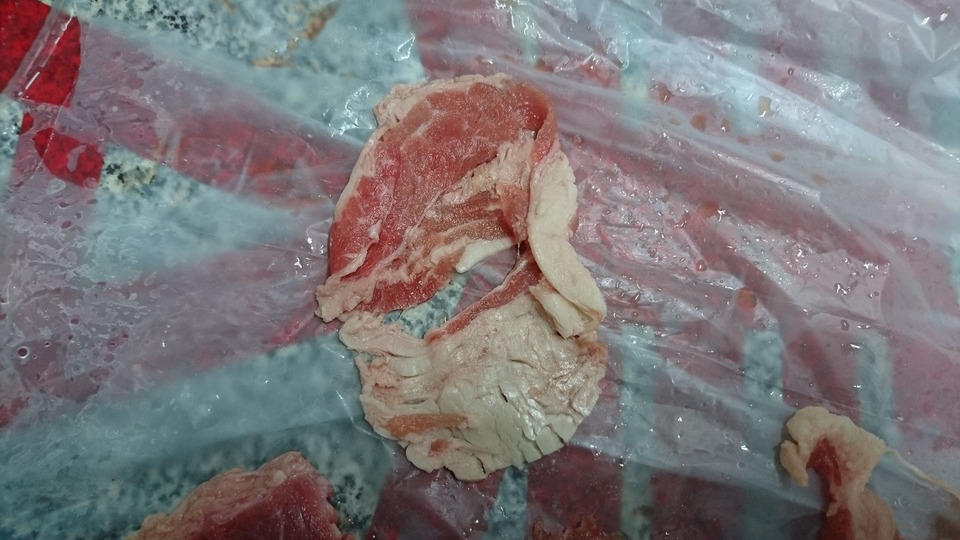restructured meat: (327, 71, 613, 480)
